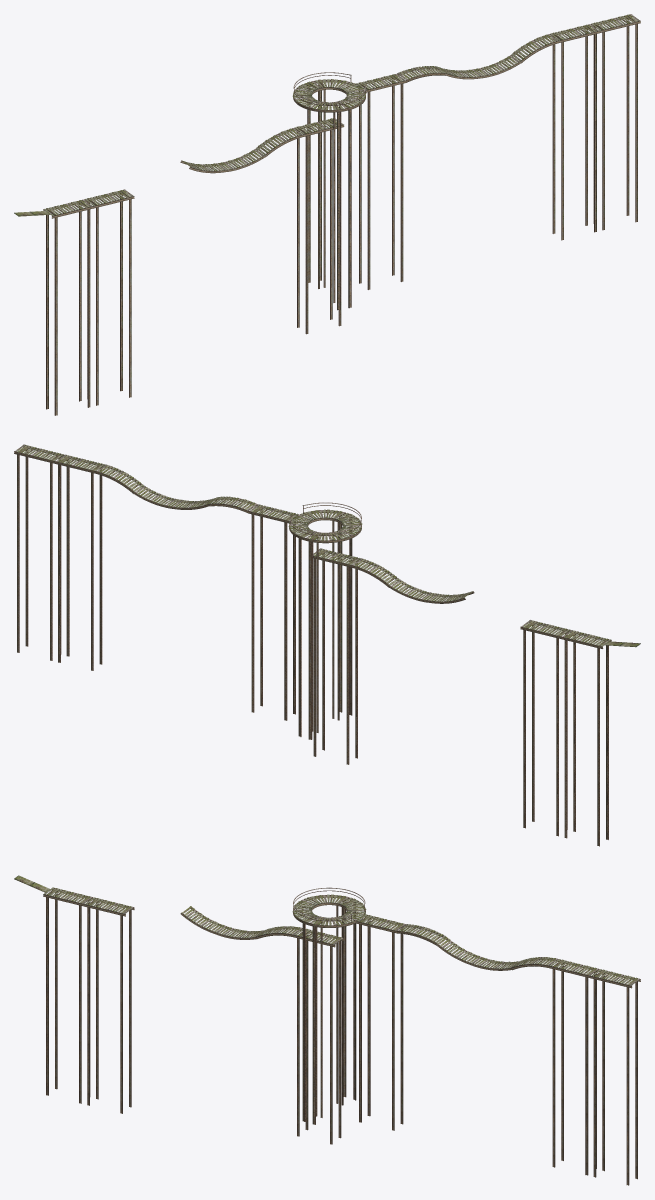
The picture shows the model from 3 angles, top to bottom: view 1: azimuth 30°, elevation 25°; view 2: azimuth 150°, elevation 25°; view 3: azimuth 330°, elevation 25°; orthographic projection.
Parts seen in each view (by area): view 1: Ramp_001__14_, Ramp_001__11_, Ramp__004__1_, Ramp_001__10_, Ramp__004, Ramp_001__9_, Ramp_001__12_, Ramp_001__13_, Ramp_038__2_, Ramp_038__3_; view 2: Ramp__004__1_, Ramp_001__10_, Ramp_001__12_, Ramp__004, Ramp_001__11_, Ramp_001__14_, Ramp_001__9_, Ramp_001__13_, Ramp_038__3_, Ramp_038__2_; view 3: Ramp__004, Ramp__004__1_, Ramp_001__9_, Ramp_001__11_, Ramp_001__12_, Ramp_001__13_, Ramp_001__10_, Ramp_001__14_, Ramp_002__4_, Ramp_002__2_, Ramp_004__3_.
Boxes of the visible parts, x1,y1,x2,y2 form: Ramp_001__14_: (43, 199, 93, 415); Ramp_001__11_: (356, 74, 406, 289); Ramp__004__1_: (292, 81, 344, 310); Ramp_001__10_: (550, 24, 599, 240); Ramp__004: (314, 79, 366, 308); Ramp_001__9_: (591, 14, 640, 230); Ramp_001__12_: (294, 118, 344, 334); Ramp_001__13_: (84, 189, 134, 405); Ramp_038__2_: (511, 34, 558, 63); Ramp_038__3_: (255, 128, 303, 156); Ramp__004__1_: (304, 513, 362, 739); Ramp_001__10_: (55, 454, 104, 670); Ramp_001__12_: (313, 548, 360, 764); Ramp__004: (288, 509, 345, 736); Ramp_001__11_: (248, 504, 298, 720); Ramp_001__14_: (561, 630, 611, 846); Ramp_001__9_: (14, 444, 63, 660); Ramp_001__13_: (520, 620, 570, 836); Ramp_038__3_: (351, 558, 399, 587); Ramp_038__2_: (95, 464, 143, 493); Ramp__004: (308, 897, 366, 1124); Ramp__004__1_: (292, 894, 349, 1121); Ramp_001__9_: (590, 969, 640, 1185); Ramp_001__11_: (356, 914, 405, 1130); Ramp_001__12_: (294, 928, 344, 1144); Ramp_001__13_: (84, 897, 134, 1113); Ramp_001__10_: (549, 959, 599, 1175); Ramp_001__14_: (43, 887, 92, 1103); Ramp_002__4_: (180, 906, 226, 934); Ramp_002__2_: (436, 937, 482, 965); Ramp_004__3_: (397, 924, 445, 945).
Size of the model in its own units: 7537 by 2994 by 776.
